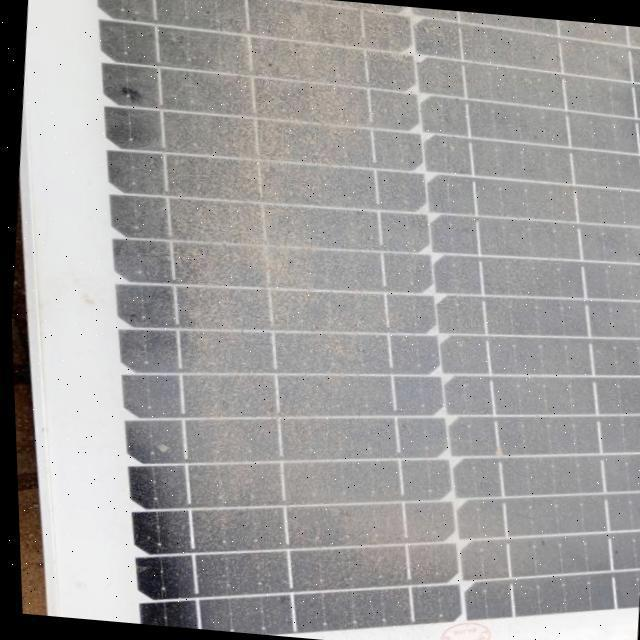Surface Contaminant: (63, 0, 640, 614)
